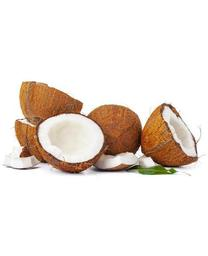coconut: (34, 112, 106, 173), (143, 104, 198, 168), (86, 104, 143, 157), (20, 80, 82, 126)
